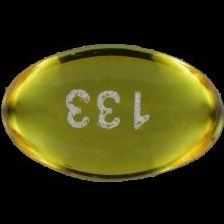75921-133: (0, 0, 224, 224)
